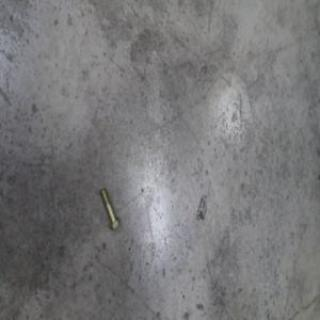Bolttrack_idkeyframe: (98, 184, 119, 230)
